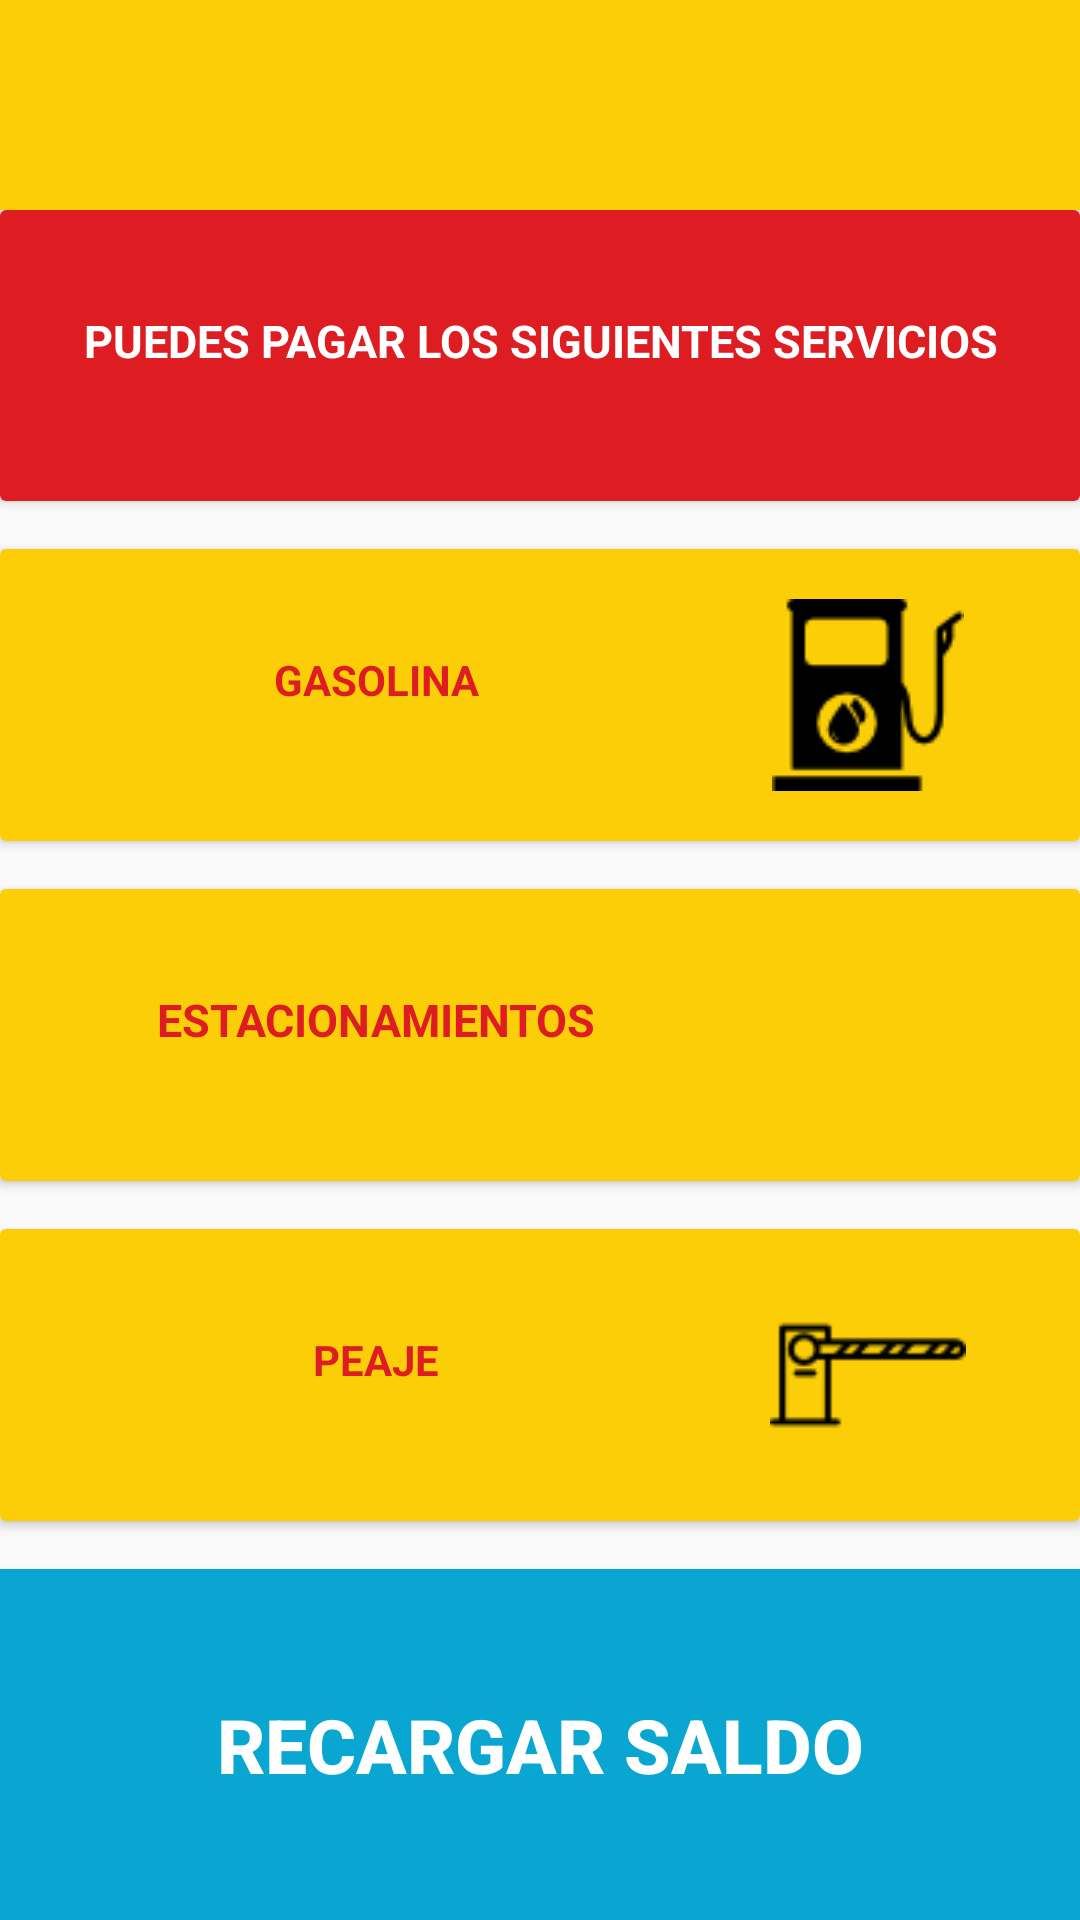

Where to tap for icons on this 1080px x 1920px app screen, as point (x, y):
fuel: point (868, 695)
